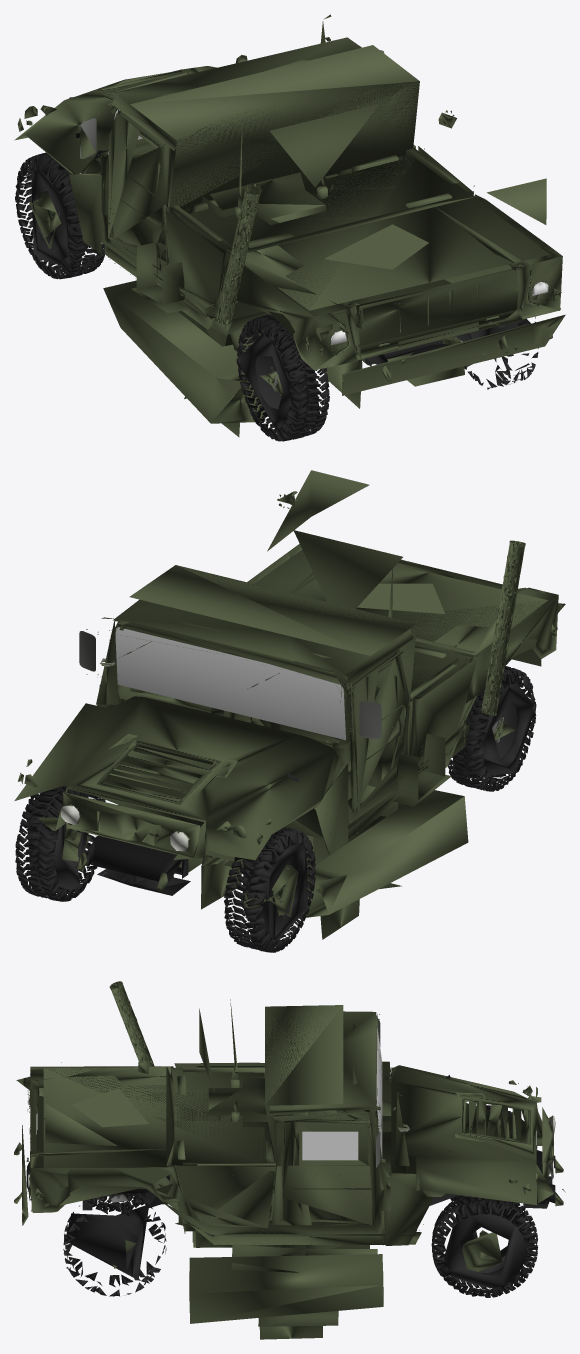
The model's file is avenger_lo.glb.
3 views of the same model, one above another, from view 1: azimuth 30°, elevation 25°; view 2: azimuth 150°, elevation 25°; view 3: azimuth 270°, elevation 25° (orthographic). The views are drawn at different scales.
Visible parts, largest first — view 1: body|Humvee_gum#camo, body|Humvee_body#camo, body|Humvee_tire, cradle|Humvee_gum#camo, turret|Humvee_gum#camo, body|Humvee_interior#camo, body|Humvee_paint_black; view 2: body|Humvee_body#camo, body|Humvee_gum#camo, body|Humvee_tire, body|Humvee_d_glass, cradle|Humvee_gum#camo, body|Humvee_interior#camo, body|Humvee_paint_black, turret|Humvee_gum#camo, body|Humvee_chrome, body|Humvee_head_lights; view 3: body|Humvee_body#camo, body|Humvee_gum#camo, body|Humvee_tire, cradle|Humvee_gum#camo, body|Humvee_interior#camo, turret|Humvee_gum#camo, body|Humvee_d_glass, body|Humvee_paint_black.
Boxes of the visible parts, <box> form: body|Humvee_gum#camo: <box>130,45,550,332</box>; body|Humvee_body#camo: <box>14,14,565,396</box>; body|Humvee_tire: <box>15,152,538,441</box>; cradle|Humvee_gum#camo: <box>103,280,464,437</box>; turret|Humvee_gum#camo: <box>131,116,333,351</box>; body|Humvee_interior#camo: <box>101,60,477,329</box>; body|Humvee_paint_black: <box>76,133,472,366</box>; body|Humvee_body#camo: <box>14,544,565,916</box>; body|Humvee_gum#camo: <box>65,470,547,840</box>; body|Humvee_tire: <box>15,666,536,952</box>; body|Humvee_d_glass: <box>115,627,345,740</box>; cradle|Humvee_gum#camo: <box>179,790,468,939</box>; body|Humvee_interior#camo: <box>113,618,474,812</box>; body|Humvee_paint_black: <box>86,732,299,895</box>; turret|Humvee_gum#camo: <box>201,565,451,894</box>; body|Humvee_chrome: <box>65,631,381,851</box>; body|Humvee_head_lights: <box>61,805,188,851</box>; body|Humvee_body#camo: <box>14,1011,563,1272</box>; body|Humvee_gum#camo: <box>29,981,526,1236</box>; body|Humvee_tire: <box>63,1105,537,1297</box>; cradle|Humvee_gum#camo: <box>189,1231,383,1339</box>; body|Humvee_interior#camo: <box>158,1019,408,1233</box>; turret|Humvee_gum#camo: <box>193,999,377,1272</box>; body|Humvee_d_glass: <box>302,1028,382,1160</box>; body|Humvee_paint_black: <box>26,1075,555,1210</box>.
Bounding box in the file's own units: 2.45 × 2.65 × 4.59.
